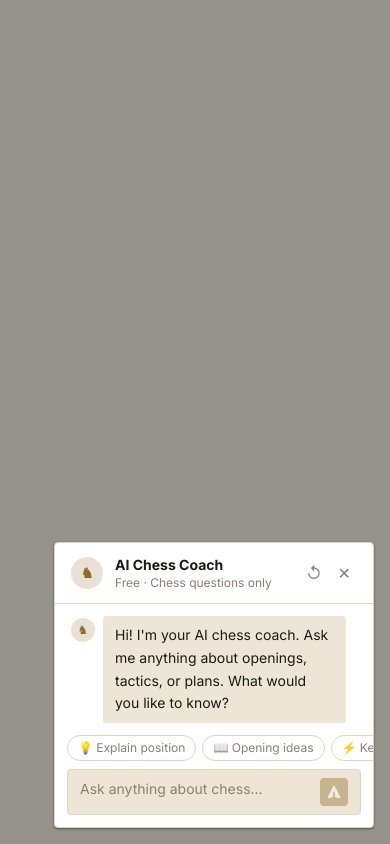
it: AICoachPanel › a quick-prompt button sends its text (minus the emoji prefix)
Click the button "💡 Explain position" at (132, 748), box [67, 735, 196, 761]
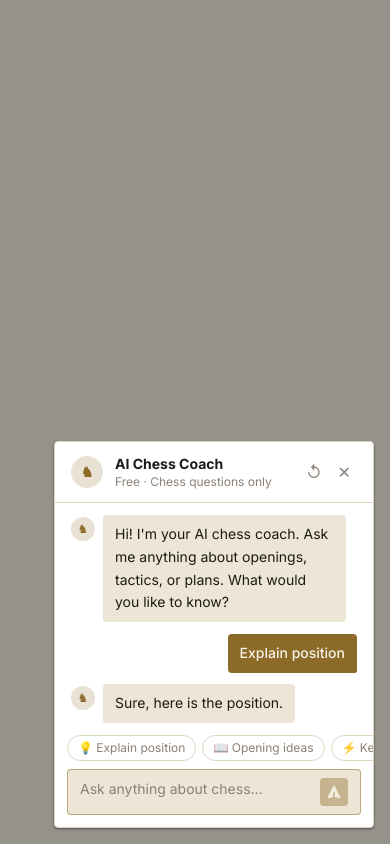
Check: the text "Explain position" is shown, box [240, 644, 345, 660]
Check: the text "Sure, here is the position." is shown, box [115, 694, 283, 711]
